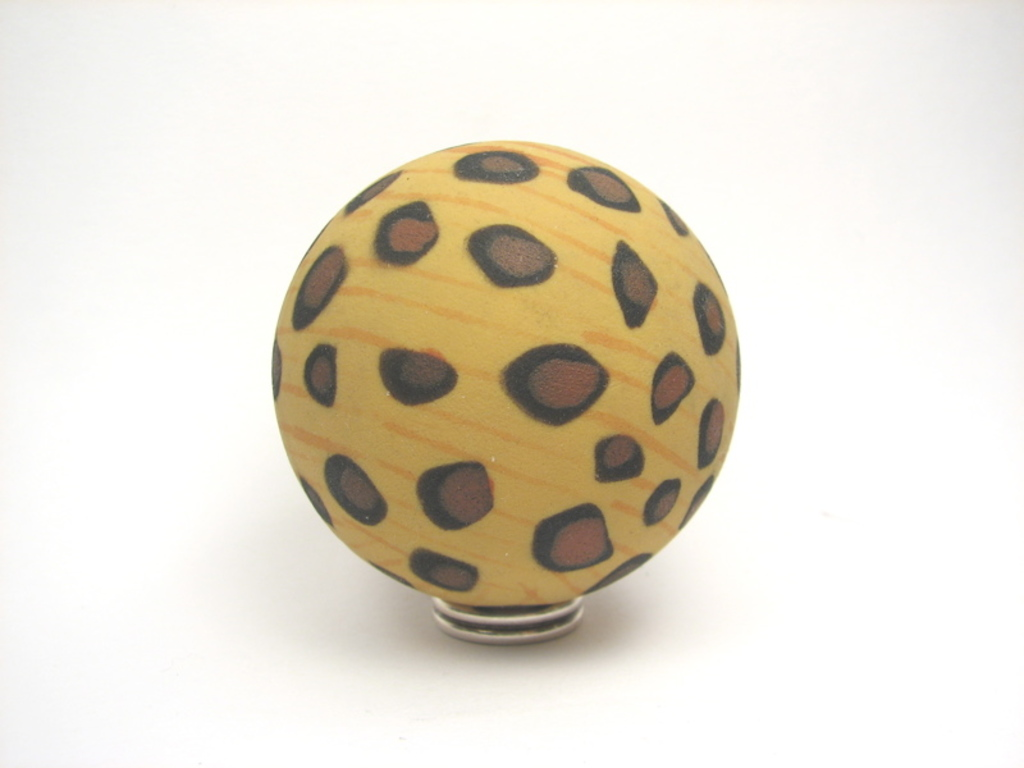Ball: (262, 138, 741, 605)
